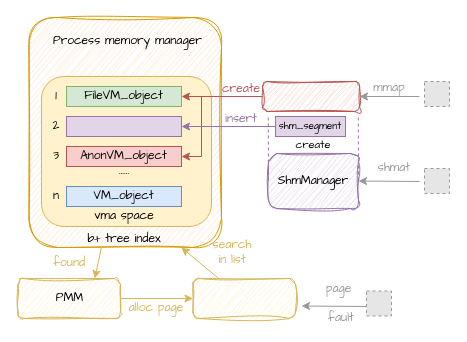
This 467x342 diagram has some shape labels left out. Grey dashed boxes stand in for pictures. The shapes that lost their labels are listed below. From the top down, each one's centre as x and y in pixels, then its label:
At pixel 311 96: "ProcManager".
At pixel 124 126: "SysvShmVM_object".
At pixel 244 298: "VMM".
